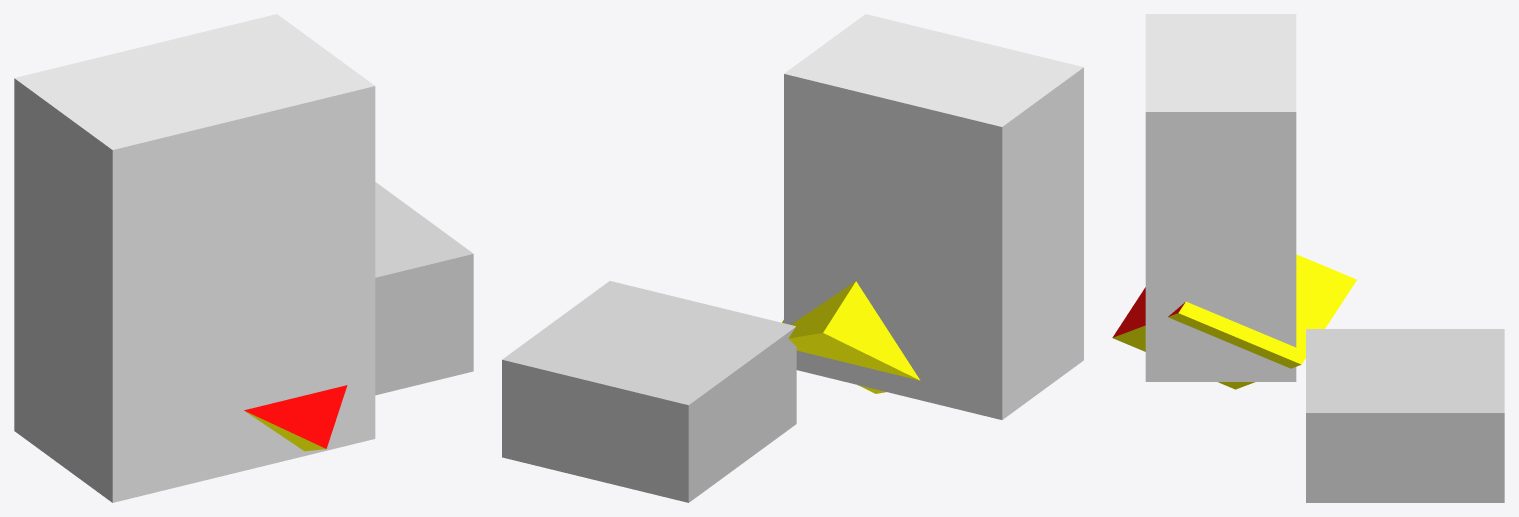
File: test.bin.fbx
3 views of the same model, side by side, from view 1: azimuth 30°, elevation 25°; view 2: azimuth 150°, elevation 25°; view 3: azimuth 270°, elevation 25° (orthographic). The views are drawn at different scales.
Parts seen in each view (by area): view 1: Box001, Box003, Box002; view 2: Box001, Box003, Box002; view 3: Box001, Box003, Box002.
Part boxes in pixels (x1=…): Box001: x1=14, y1=14, x2=375, y2=502; Box003: x1=375, y1=182, x2=473, y2=395; Box002: x1=244, y1=385, x2=347, y2=451; Box001: x1=784, y1=14, x2=1083, y2=419; Box003: x1=502, y1=281, x2=796, y2=502; Box002: x1=782, y1=281, x2=920, y2=393; Box001: x1=1145, y1=14, x2=1296, y2=381; Box003: x1=1306, y1=329, x2=1504, y2=502; Box002: x1=1112, y1=254, x2=1356, y2=389.
Size of the model in its own units: 4.15 by 3.5 by 3.95.
